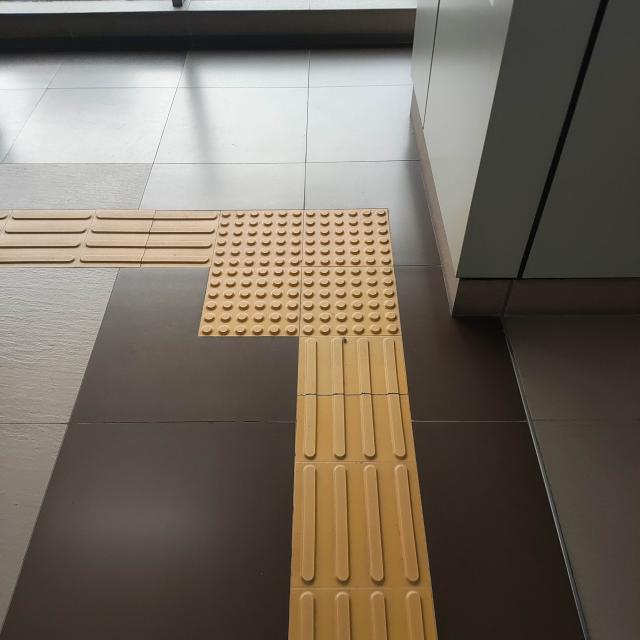kiri: (42, 154, 462, 436)
